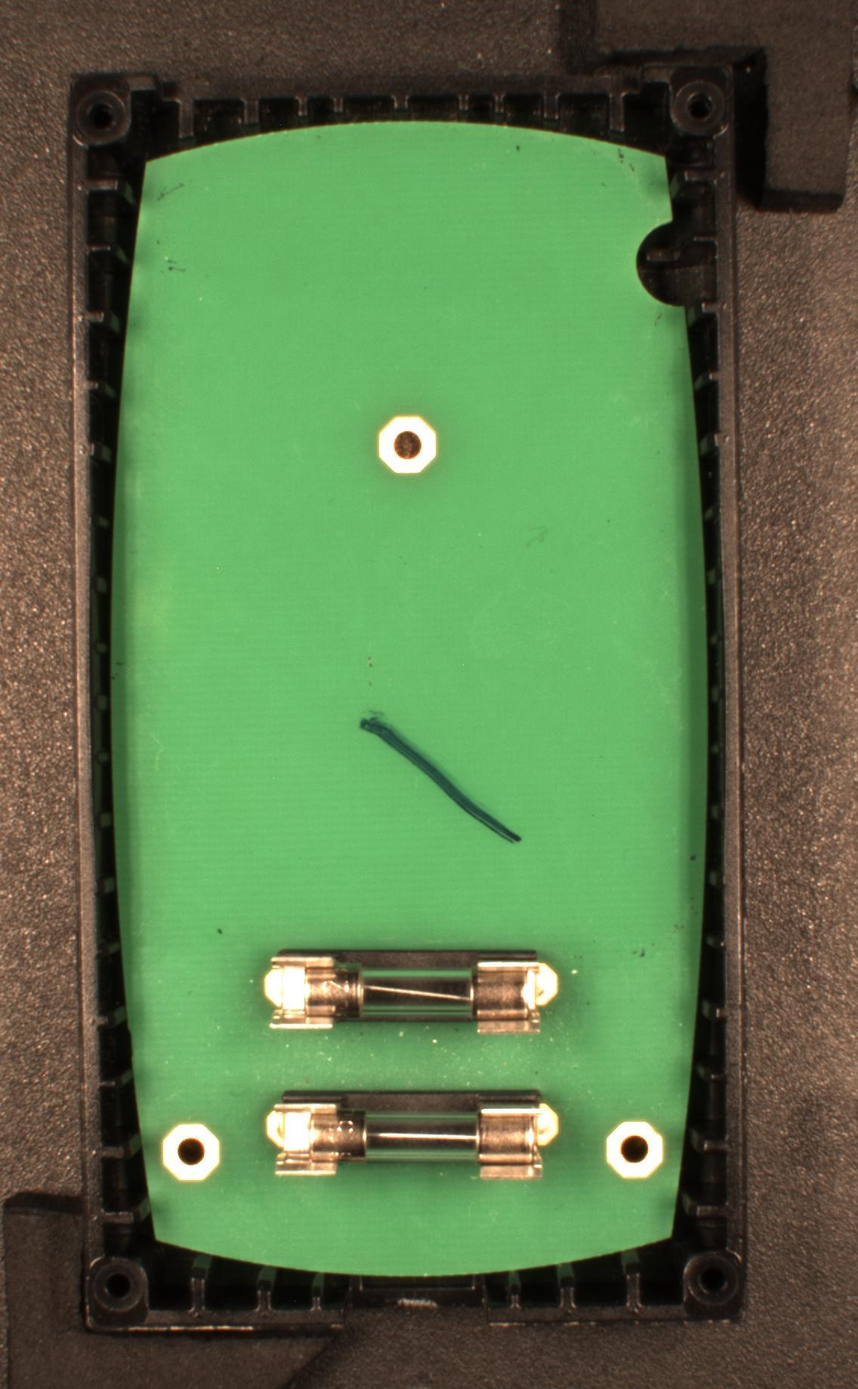Linijsko Ostecene: (358, 707, 525, 851)
